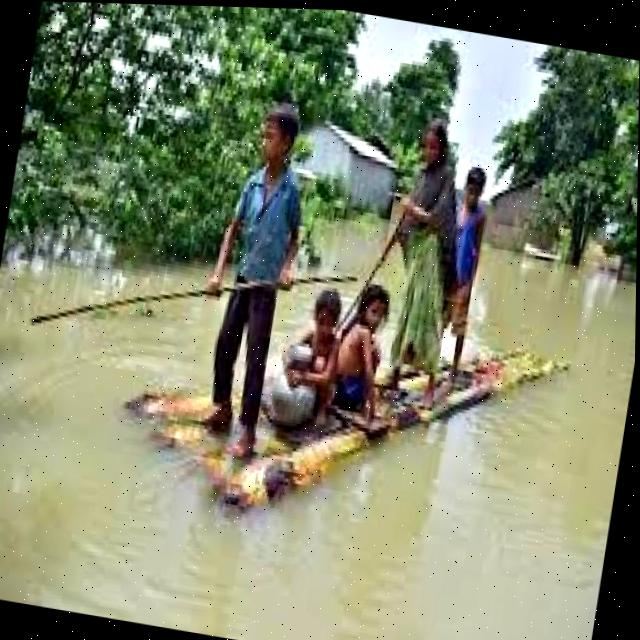civilian: (174, 90, 317, 470), (356, 110, 479, 424), (422, 158, 510, 380), (265, 281, 347, 443), (319, 276, 404, 427)
